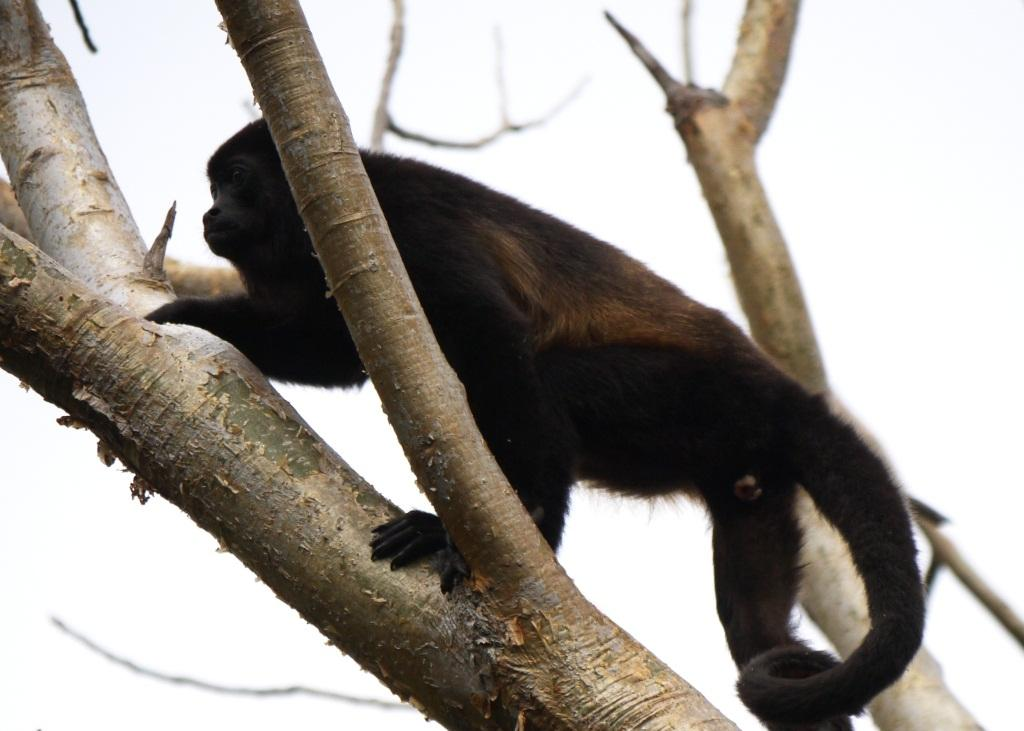monkey: (356, 150, 984, 731), (152, 120, 364, 389)
